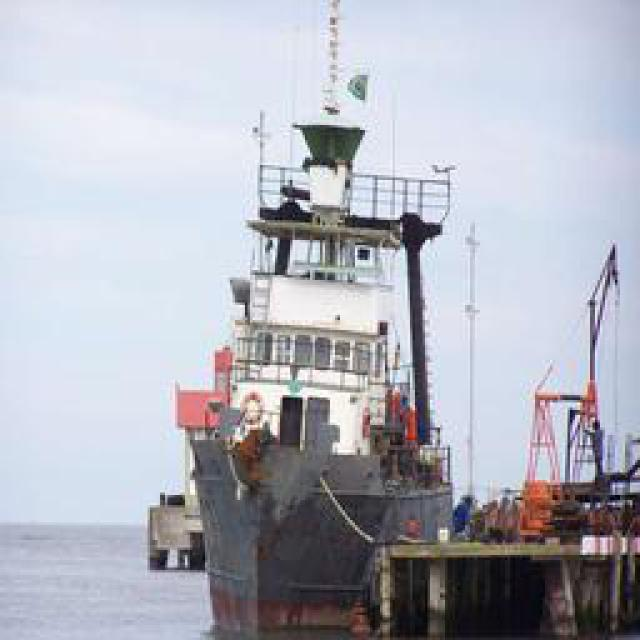Ship: (165, 63, 475, 638)
